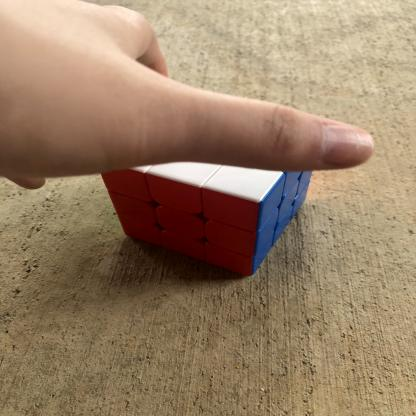SolvedCube: (84, 125, 330, 282)
